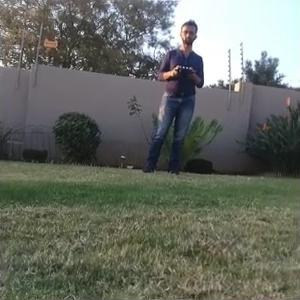follow: (137, 14, 208, 180)
